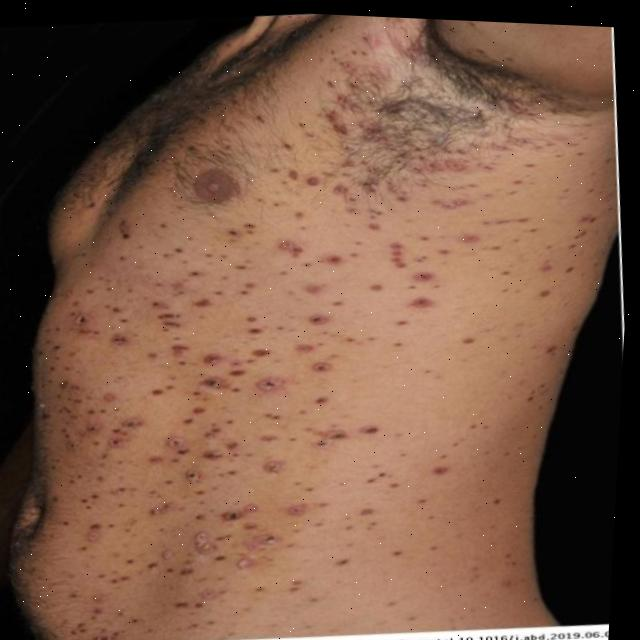Rosacea: (5, 109, 610, 640)
